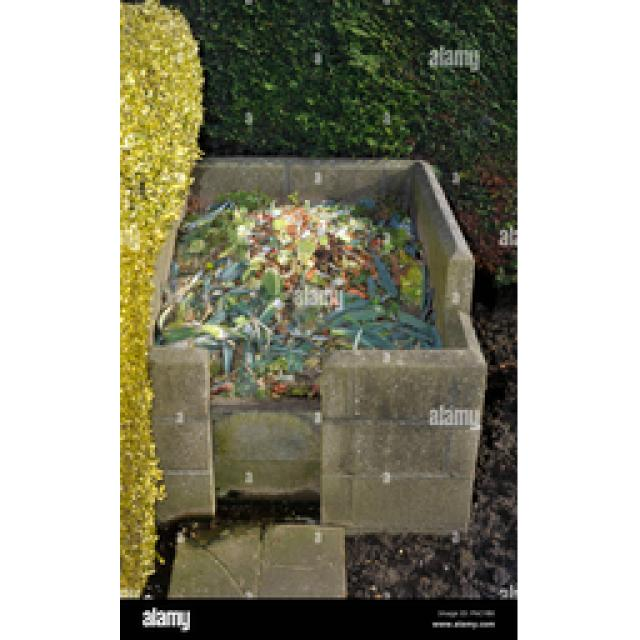food_waste: (155, 192, 438, 392)
